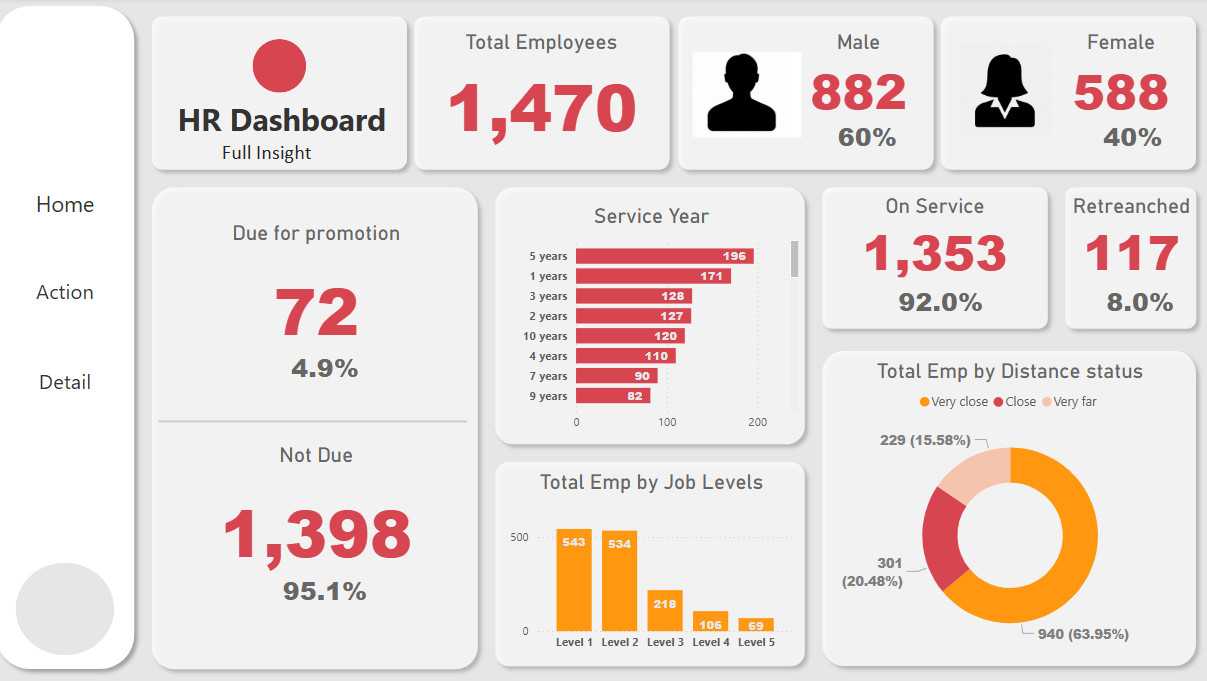

This screenshot's page, from the dashboard's own definition file:
{"tool":"powerbi","page":{"name":"Home","canvas":[1280,720],"ordinal":0},"visuals":[{"type":"shape","box":[0,0,162.6,709.6],"z":0},{"type":"shape","box":[162.6,10.9,284.5,178.2],"z":1000},{"type":"shape","box":[984.7,10.9,284.5,178.2],"z":2000},{"type":"shape","box":[711.2,10.9,284.5,178.2],"z":3000},{"type":"shape","box":[436.1,10.9,284.5,178.2],"z":4000},{"type":"shape","box":[162.6,189.1,357.9,520.5],"z":5000},{"type":"shape","box":[520.5,189.1,340.7,286],"z":6000},{"type":"shape","box":[520.5,475.1,340.7,231.3],"z":7000},{"type":"shape","box":[861.2,189.1,253.2,165.7],"z":8000},{"type":"shape","box":[1114.4,189.1,154.7,165.7],"z":9000},{"type":"shape","box":[861.2,359.5,407.9,347],"z":10000},{"type":"textbox","box":[178.2,100,257.9,61],"z":11000},{"type":"textbox","box":[226.6,143.8,129.7,45.3],"z":12000},{"type":"shape","box":[276.6,43.8,56.3,56.3],"z":13000},{"type":"card","title":"Total Employees","fields":{"Values":["All Measures.Total Emp"]},"box":[456.4,34.4,242.3,126.6],"z":14000},{"type":"card","title":"Male","fields":{"Values":["All Measures.Male"]},"box":[840.9,34.4,134.4,96.9],"z":15000},{"type":"card","title":"Male","fields":{"Values":["All Measures.% male"]},"box":[850.3,125,134.4,42.2],"z":16000},{"type":"card","title":"Female","fields":{"Values":["All Measures.Female"]},"box":[1114.4,34.4,134.4,96.9],"z":17000},{"type":"card","title":"Male","fields":{"Values":["All Measures.% female"]},"box":[1126.9,125,134.4,42.2],"z":18000},{"type":"image","box":[729.9,42.2,123.5,118.8],"z":19000},{"type":"image","box":[1006.6,34.4,107.8,126.6],"z":20000},{"type":"card","title":"Due for promotion","fields":{"Values":["All Measures.Due for promotion"]},"box":[186,232.9,314.2,154.7],"z":21000},{"type":"card","fields":{"Values":["All Measures.% Due for promotion"]},"box":[268.8,359.5,167.2,54.7],"z":22000},{"type":"card","title":"Not Due","fields":{"Values":["All Measures.Not due"]},"box":[186,464.2,314.2,154.7],"z":23000},{"type":"card","fields":{"Values":["All Measures.% Not due"]},"box":[268.8,590.8,167.2,56.3],"z":24000},{"type":"shape","box":[178.2,434.5,322,15.6],"z":25000},{"type":"barChart","title":"Service Year","fields":{"Category":["HR Analytics Data.Service year"],"Y":["All Measures.Total Emp"]},"box":[534.5,215.7,315.7,245.4],"z":26000},{"type":"columnChart","fields":{"Category":["HR Analytics Data.Job Levels"],"Y":["All Measures.Total Emp"]},"box":[539.2,492.3,306.3,198.5],"z":27000},{"type":"card","title":"On Service","fields":{"Values":["All Measures.On service"]},"box":[872.1,204.8,231.3,92.2],"z":28000},{"type":"card","title":"Male","fields":{"Values":["All Measures.% On service"]},"box":[926.9,297,134.4,42.2],"z":29000},{"type":"card","title":"Retreanched","fields":{"Values":["All Measures.Will be retreanched"]},"box":[1123.8,204.8,137.5,92.2],"z":30000},{"type":"card","title":"Male","fields":{"Values":["All Measures.% Will be retreanched"]},"box":[1134.7,297,134.4,42.2],"z":31000},{"type":"donutChart","fields":{"Category":["HR Analytics Data.Distance status"],"Y":["All Measures.Total Emp"]},"box":[883.1,376.7,365.7,314.2],"z":32000},{"type":"actionButton","box":[21.9,272,118.8,67.2],"z":33000},{"type":"actionButton","box":[21.9,181.3,118.8,67.2],"z":34000},{"type":"actionButton","box":[21.9,359.5,118.8,79.7],"z":35000},{"type":"shape","box":[29.7,589.2,103.2,96.9],"z":35001}]}

Visuals, with their boxes in screenshot pixels (x1, y1, x2, y2), scaled from the page's 1280x720 canvas onto the 1207x681 screenshot:
shape: select_region(0, 0, 153, 671)
shape: select_region(153, 10, 422, 179)
shape: select_region(929, 10, 1197, 179)
shape: select_region(671, 10, 939, 179)
shape: select_region(411, 10, 680, 179)
shape: select_region(153, 179, 491, 671)
shape: select_region(491, 179, 812, 449)
shape: select_region(491, 449, 812, 668)
shape: select_region(812, 179, 1051, 336)
shape: select_region(1051, 179, 1197, 336)
shape: select_region(812, 340, 1197, 668)
textbox: select_region(168, 95, 411, 152)
textbox: select_region(214, 136, 336, 179)
shape: select_region(261, 41, 314, 95)
"Total Employees" card: select_region(430, 33, 659, 152)
"Male" card: select_region(793, 33, 920, 124)
"Male" card: select_region(802, 118, 929, 158)
"Female" card: select_region(1051, 33, 1178, 124)
"Male" card: select_region(1063, 118, 1189, 158)
image: select_region(688, 40, 805, 152)
image: select_region(949, 33, 1051, 152)
"Due for promotion" card: select_region(175, 220, 472, 367)
card - All Measures.% Due for promotion: select_region(253, 340, 411, 392)
"Not Due" card: select_region(175, 439, 472, 585)
card - All Measures.% Not due: select_region(253, 559, 411, 612)
shape: select_region(168, 411, 472, 426)
"Service Year" barChart: select_region(504, 204, 802, 436)
columnChart - HR Analytics Data.Job Levels x All Measures.Total Emp: select_region(508, 466, 797, 653)
"On Service" card: select_region(822, 194, 1040, 281)
"Male" card: select_region(874, 281, 1001, 321)
"Retreanched" card: select_region(1060, 194, 1189, 281)
"Male" card: select_region(1070, 281, 1197, 321)
donutChart - HR Analytics Data.Distance status x All Measures.Total Emp: select_region(833, 356, 1178, 653)
actionButton: select_region(21, 257, 133, 321)
actionButton: select_region(21, 171, 133, 235)
actionButton: select_region(21, 340, 133, 415)
shape: select_region(28, 557, 125, 649)
